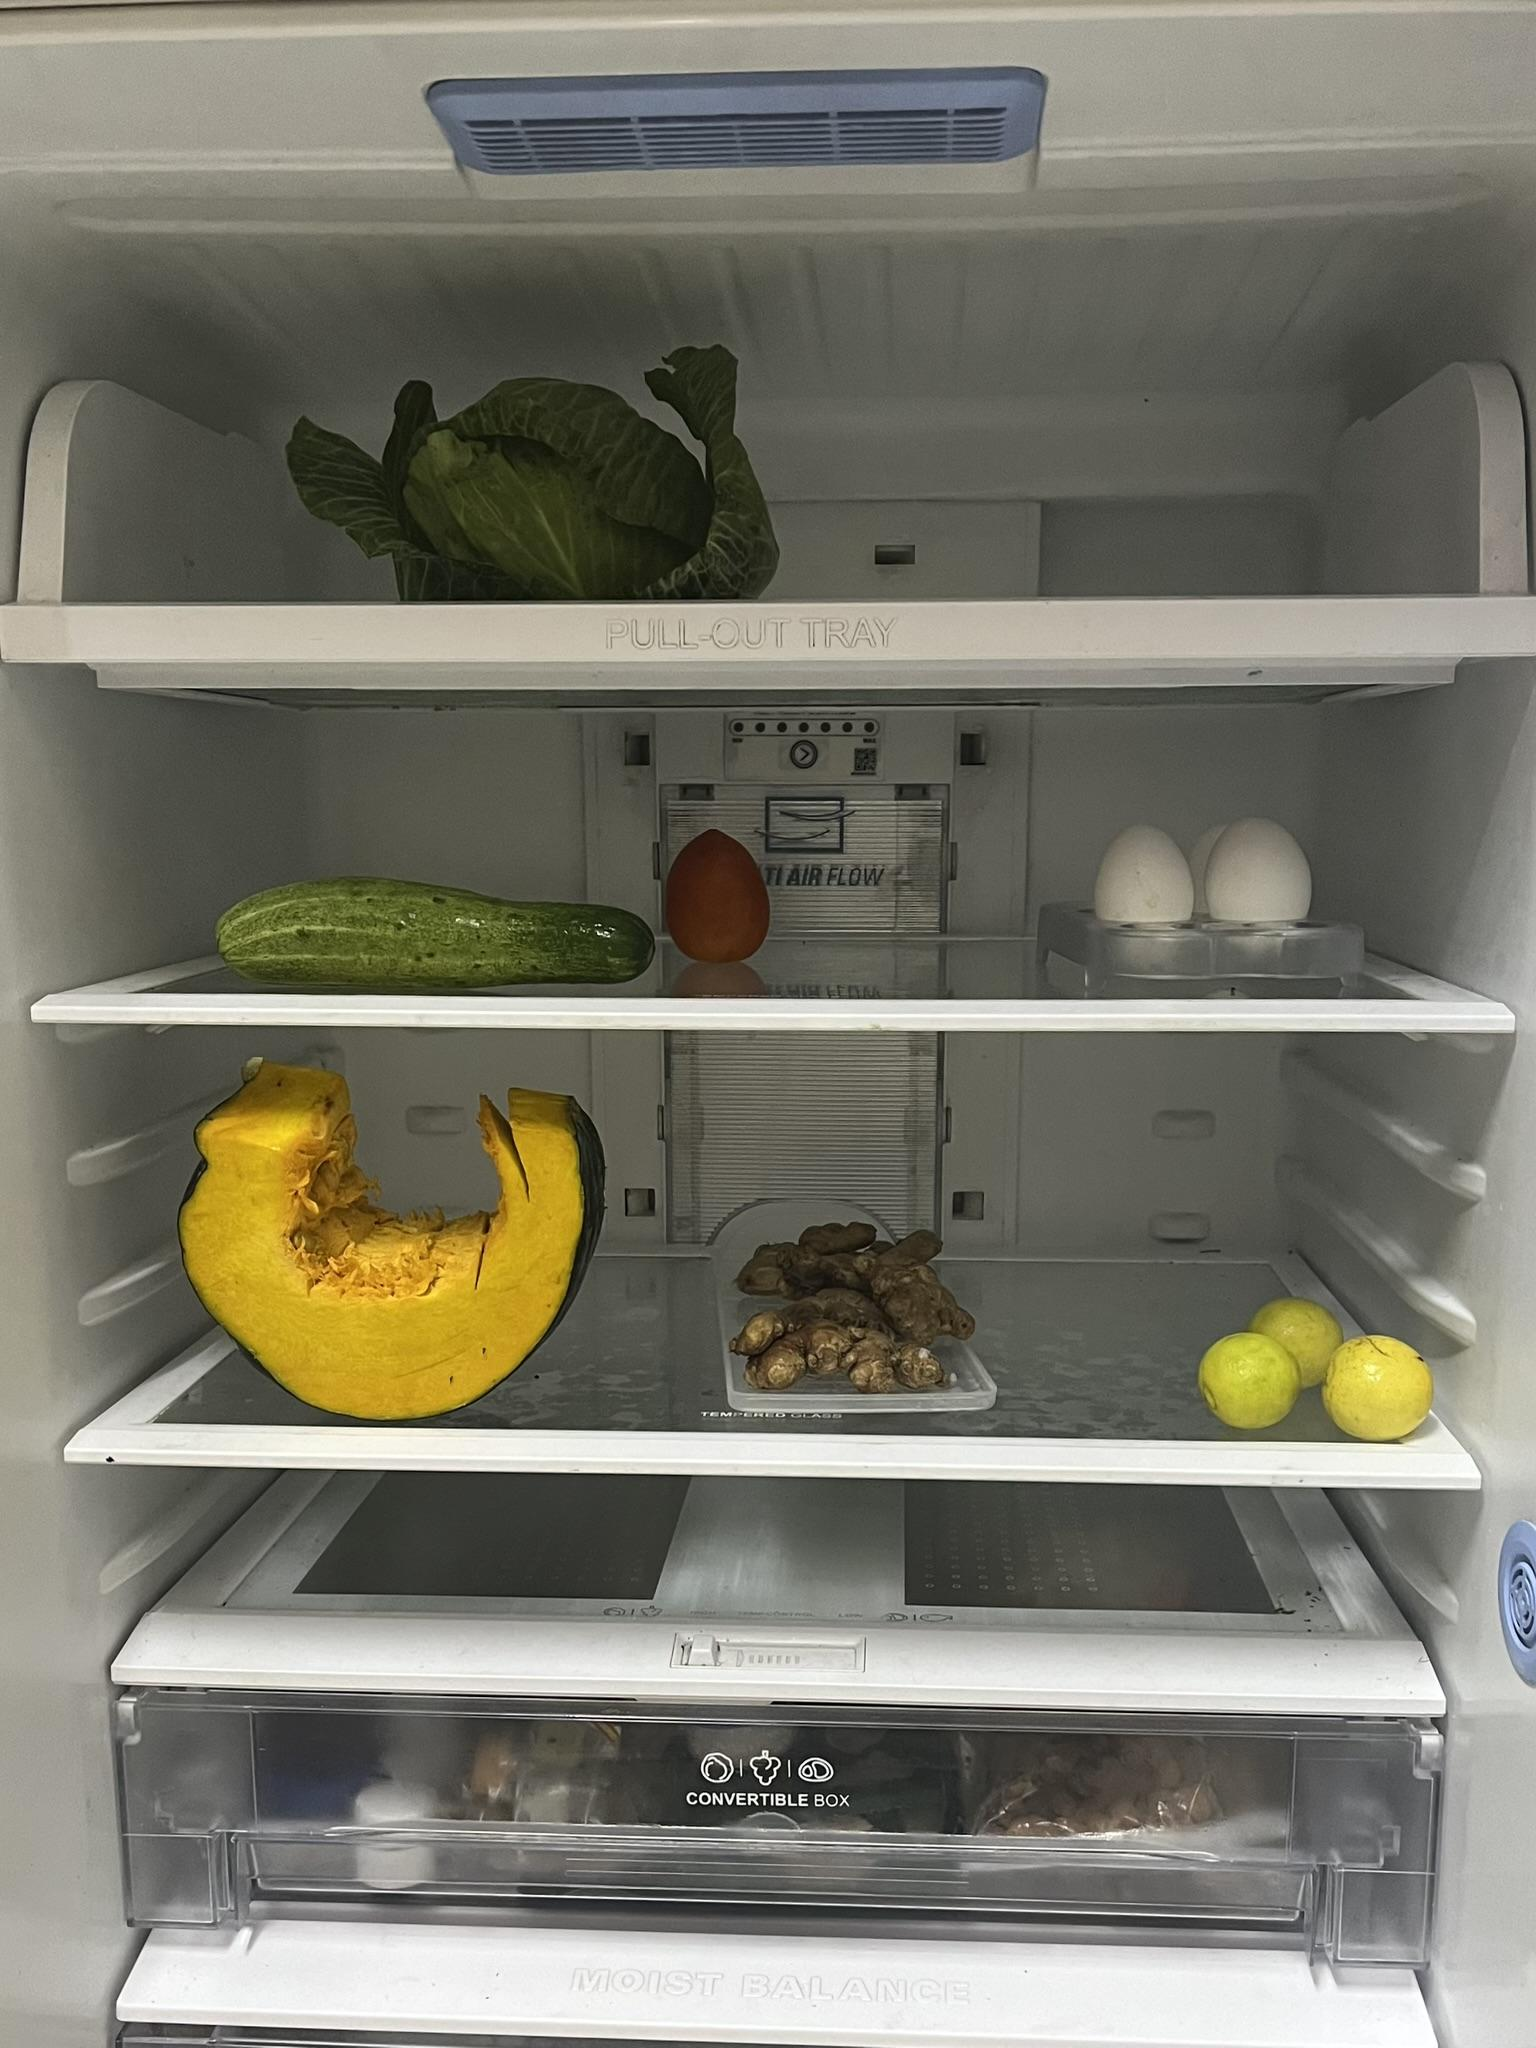cabbage: (294, 340, 779, 606)
cucumber: (216, 869, 653, 987)
egg: (1094, 810, 1313, 977)
ginger: (729, 1213, 983, 1387)
lemon: (1200, 1277, 1436, 1434)
pumpkin: (184, 1056, 597, 1424)
tomato: (663, 834, 779, 959)
